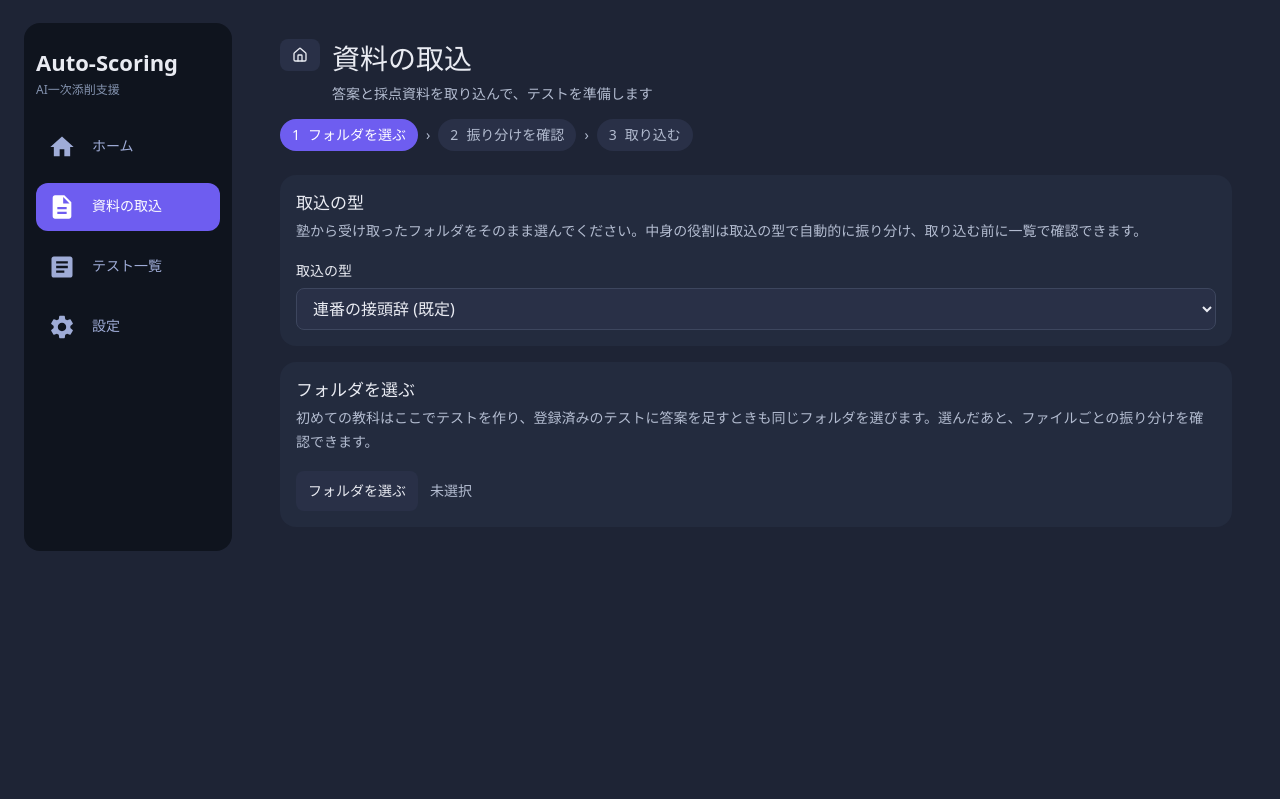
IntakePage invariants › INV-133: grading kickoff failure still counts as import success
Expected: the dropdown with test id "intake-template-picker" is shown, [296,288,1216,330]
Click the button with test id "intake-choose-folder" at (357, 491), box [296,471,418,511]
(page scrolled)
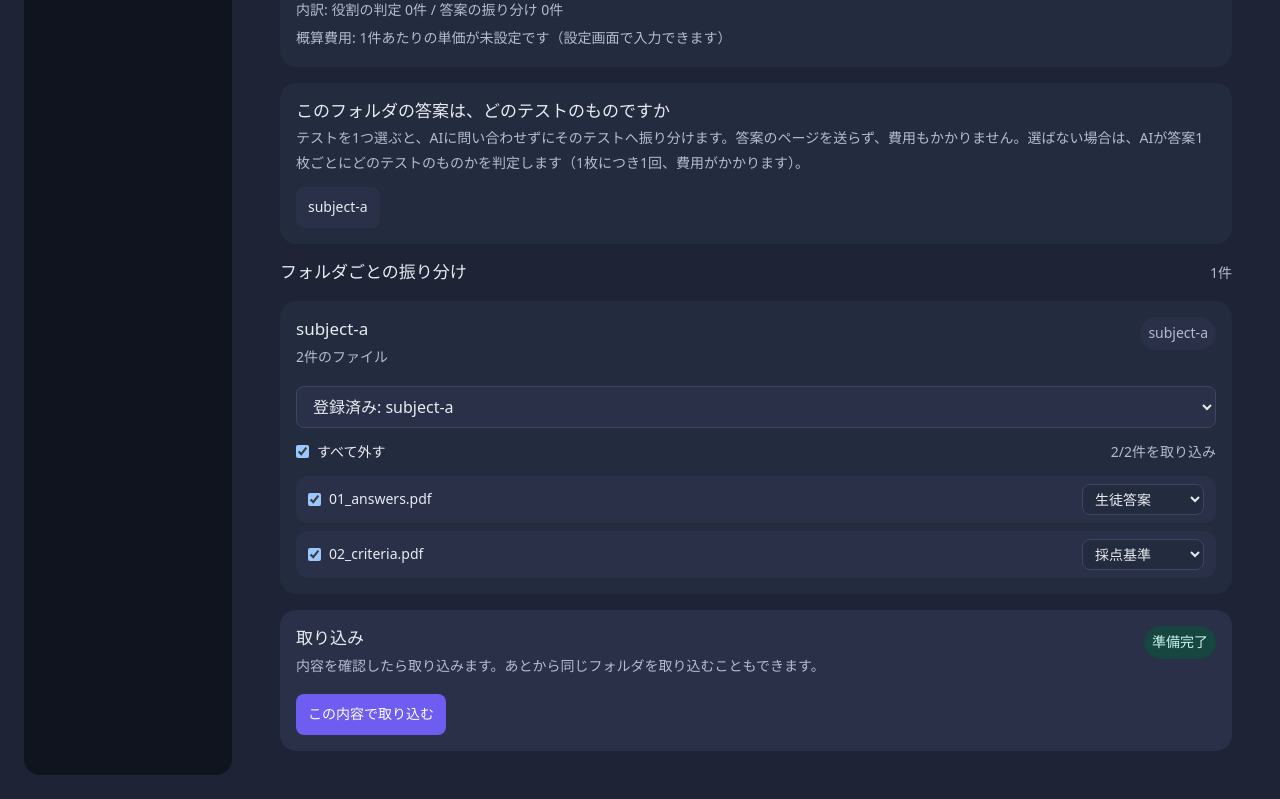
Click the button with test id "intake-import" at (371, 715), box [296,694,446,735]
(page scrolled)
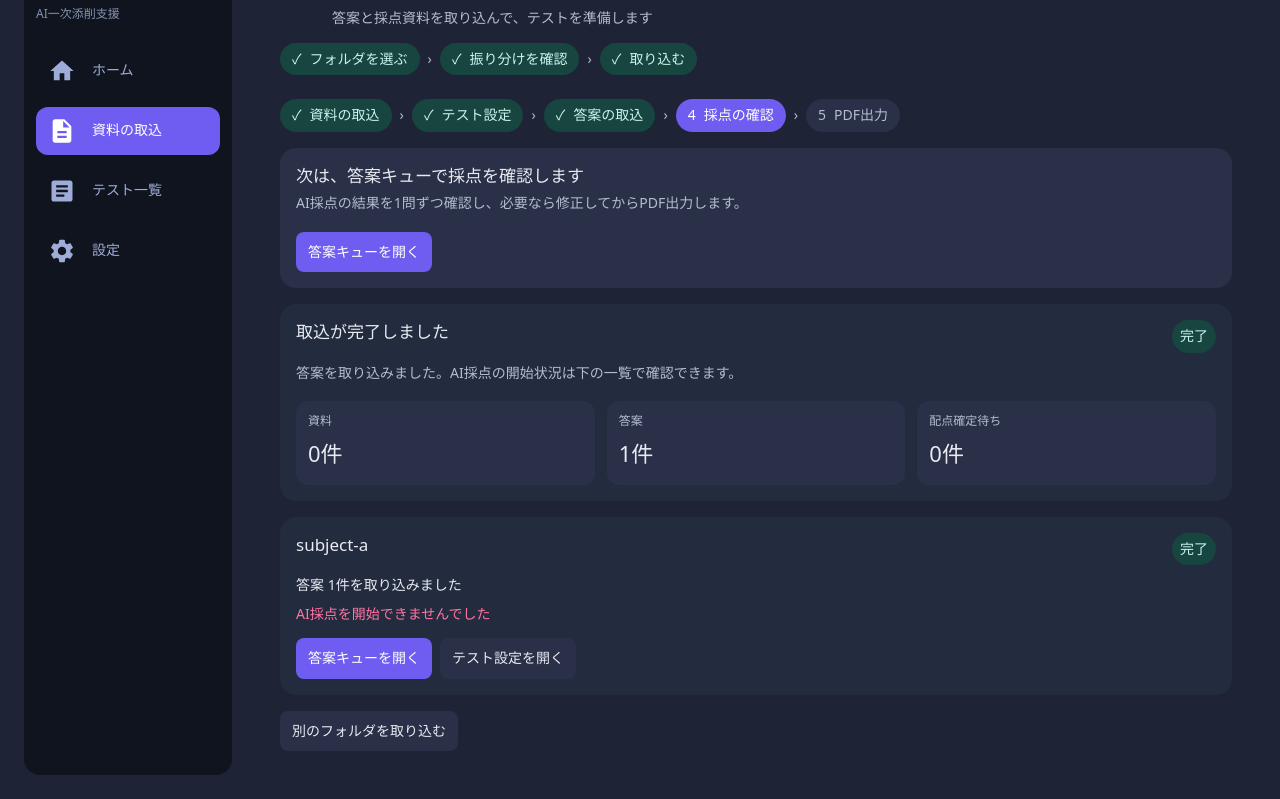
Now the list item "答案 1件を取り込みました" is shown, box [296,575,462,594]
Now the list item "AI採点を開始できませんでした" is shown, box [296,604,491,623]
